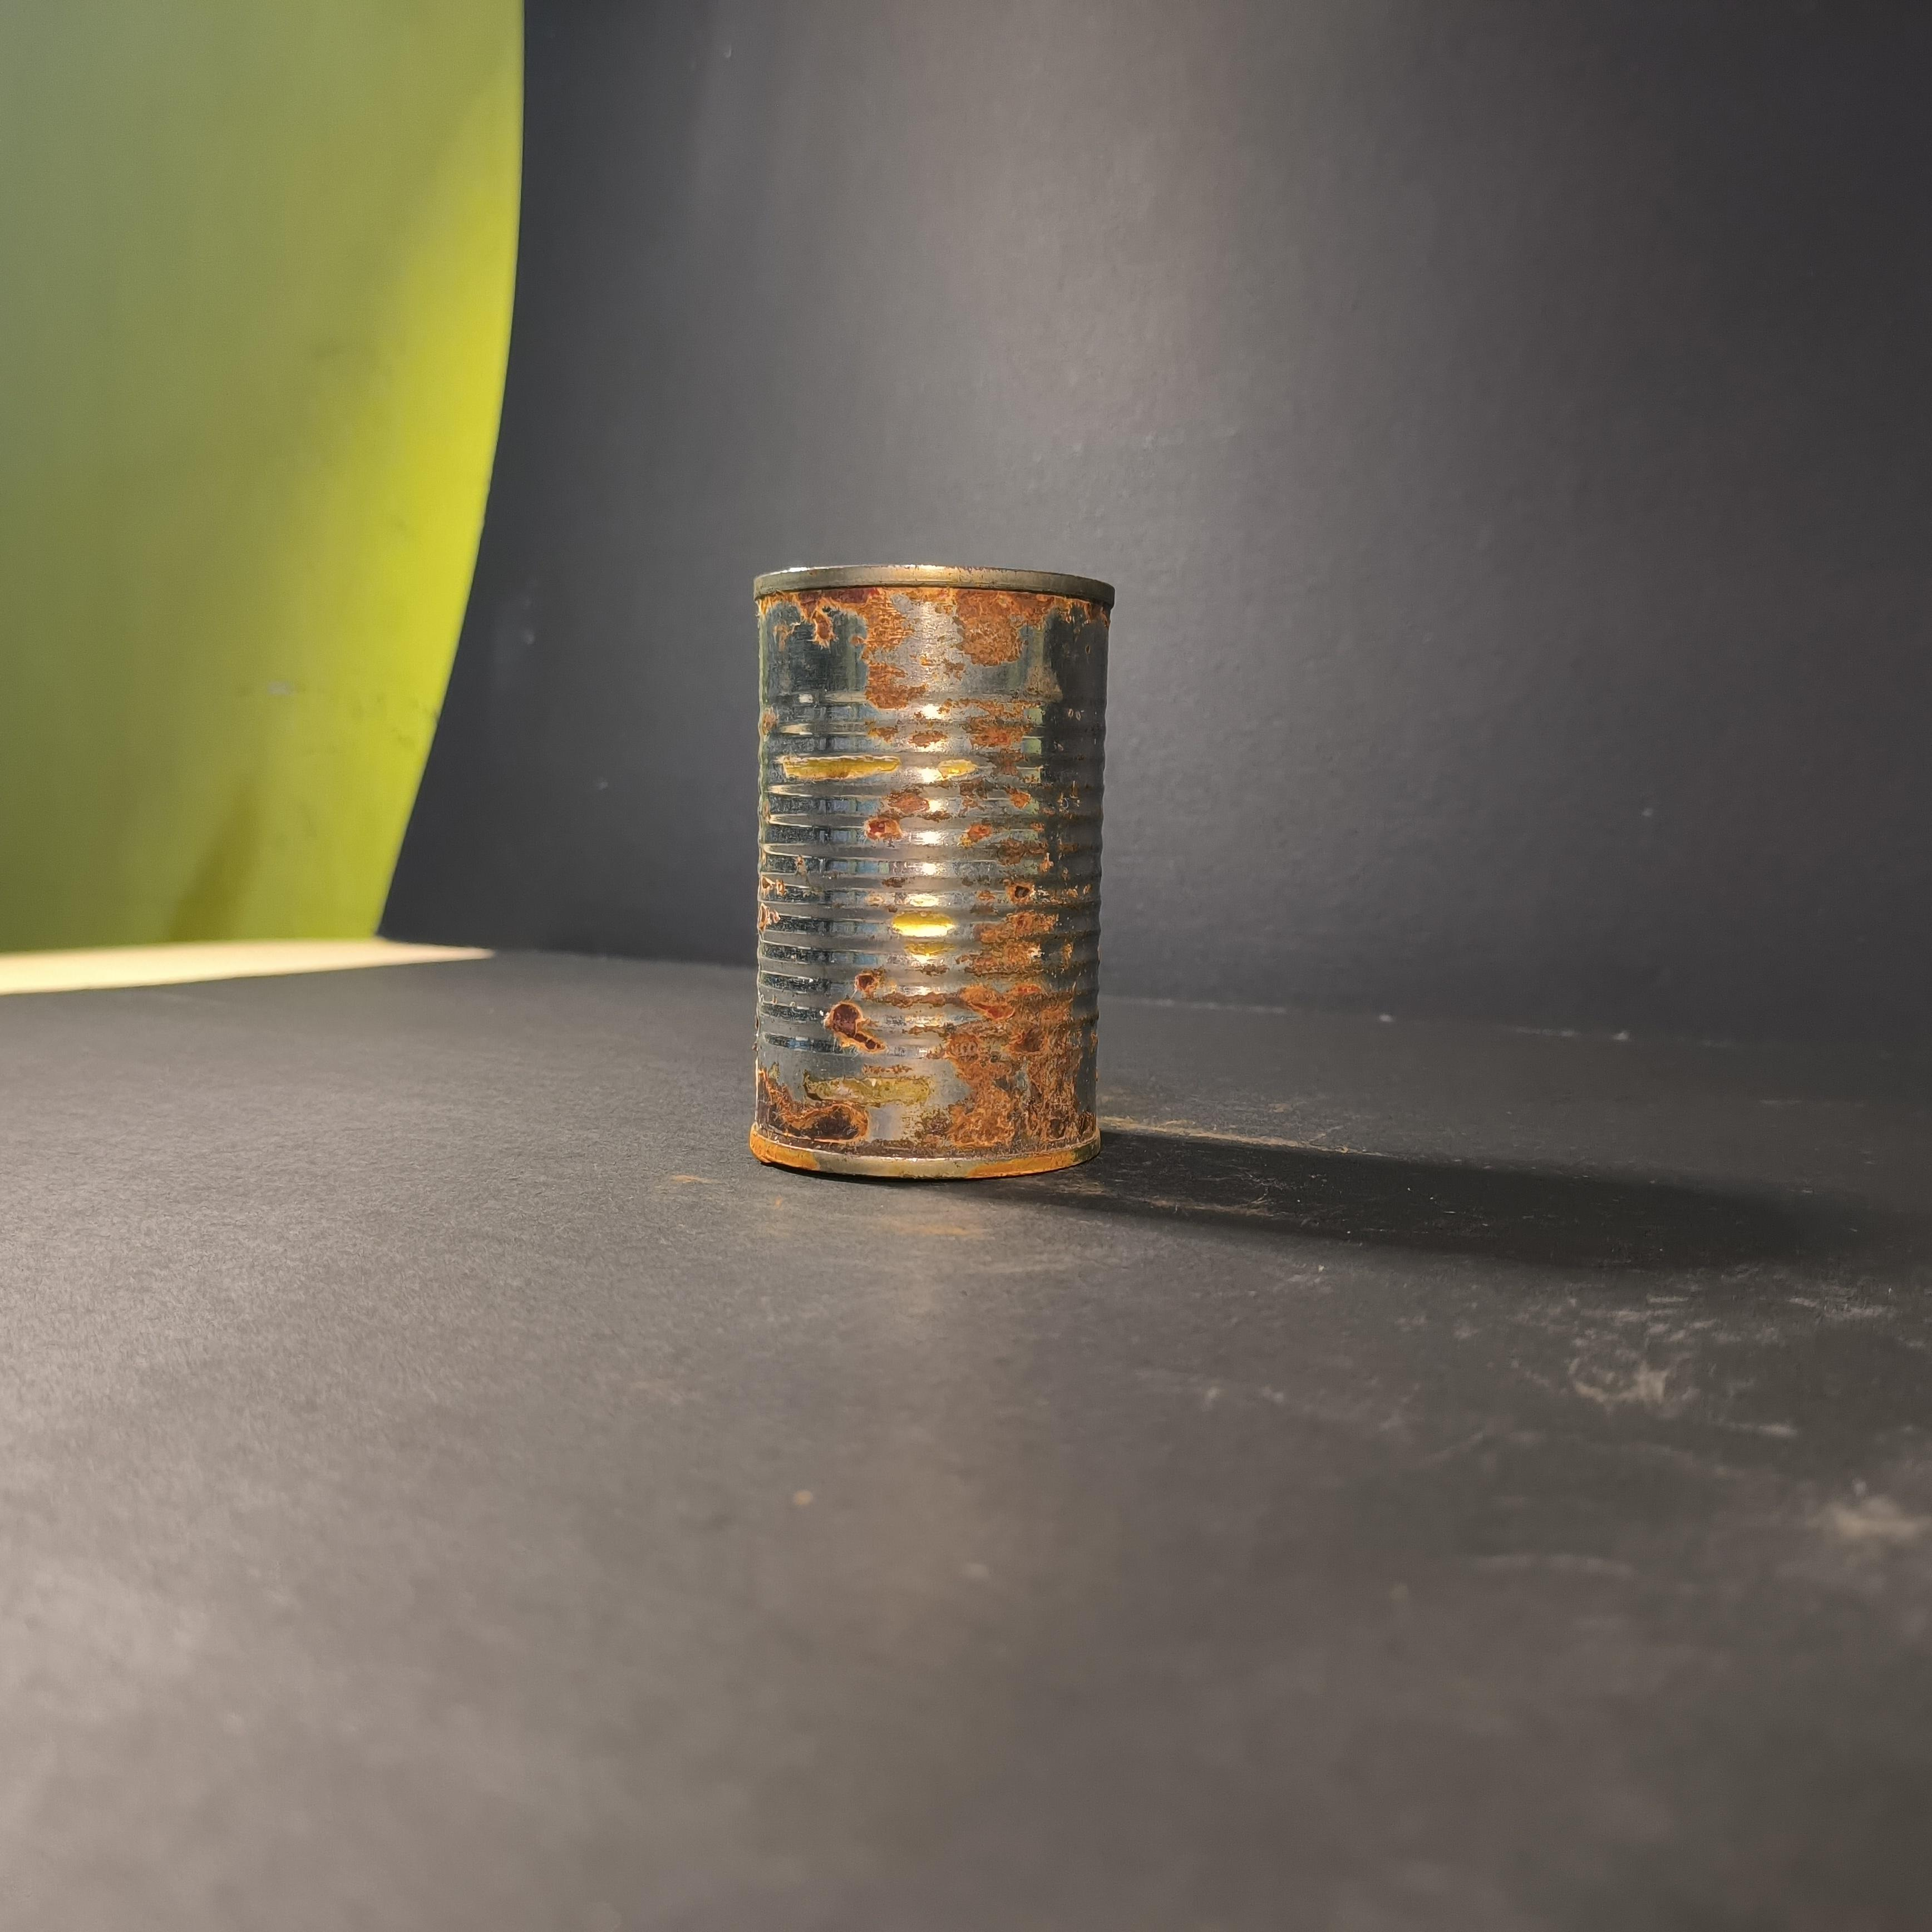Rusted: (754, 543, 1116, 1187)
